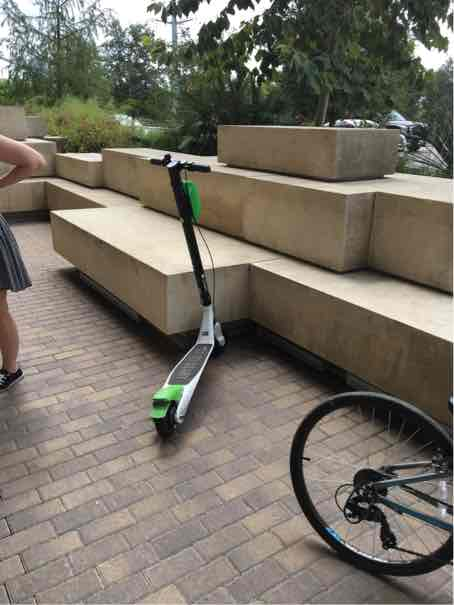scooter: (108, 141, 237, 454)
